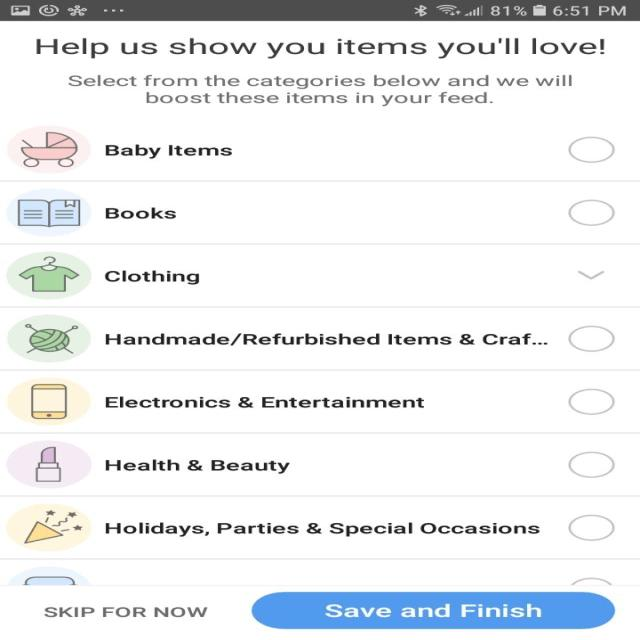Icon: (576, 270, 604, 280)
Image: (6, 251, 92, 300), (6, 440, 92, 489), (7, 377, 92, 426), (6, 126, 92, 174), (7, 314, 91, 363), (6, 188, 91, 236), (6, 503, 92, 550)
Text: (68, 75, 572, 106), (36, 38, 604, 58), (105, 522, 539, 536), (105, 333, 548, 345), (105, 396, 424, 408), (105, 459, 290, 473), (105, 144, 232, 159), (44, 607, 208, 617), (104, 270, 199, 285), (105, 207, 177, 219)
TextButton: (252, 591, 616, 629)
